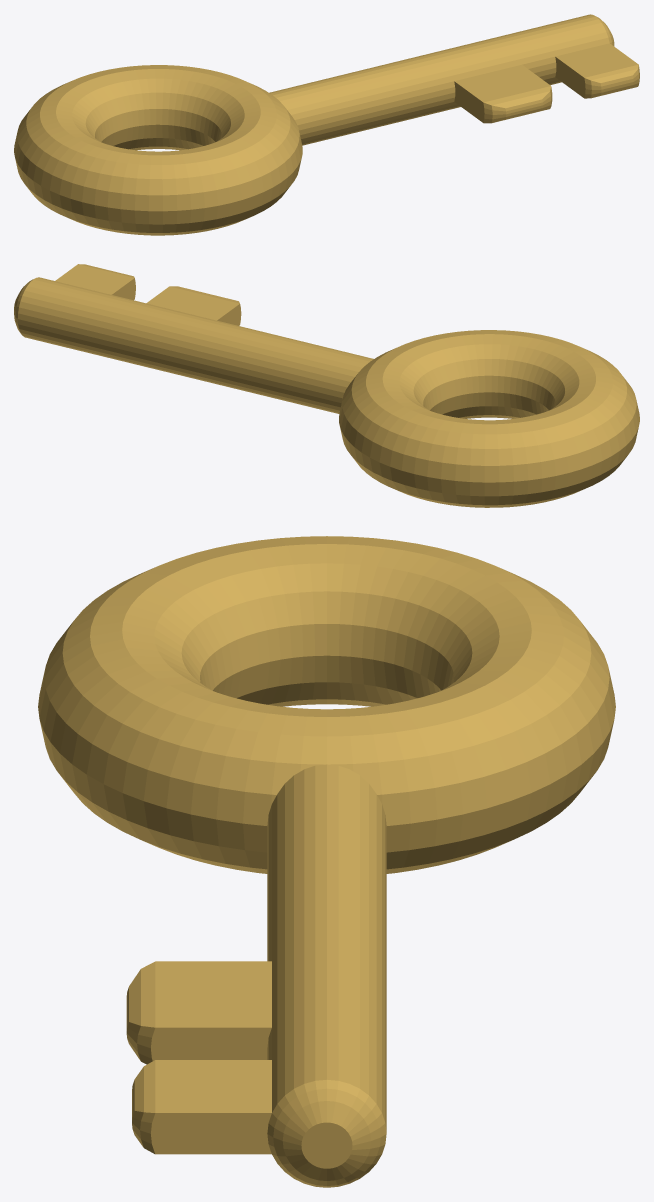
The model's file is key.dae.
3 views of the same model, one above another, from view 1: azimuth 30°, elevation 25°; view 2: azimuth 150°, elevation 25°; view 3: azimuth 270°, elevation 25° (orthographic). The views are drawn at different scales.
Parts seen in each view (by area): view 1: Cylinder; view 2: Cylinder; view 3: Cylinder.
Boxes of the visible parts, bbox=[...] form: Cylinder: bbox=[14, 14, 639, 235]; Cylinder: bbox=[14, 264, 639, 507]; Cylinder: bbox=[38, 536, 615, 1187].
Bounding box in the file's own units: 2.73 × 1.19 × 0.3462.
